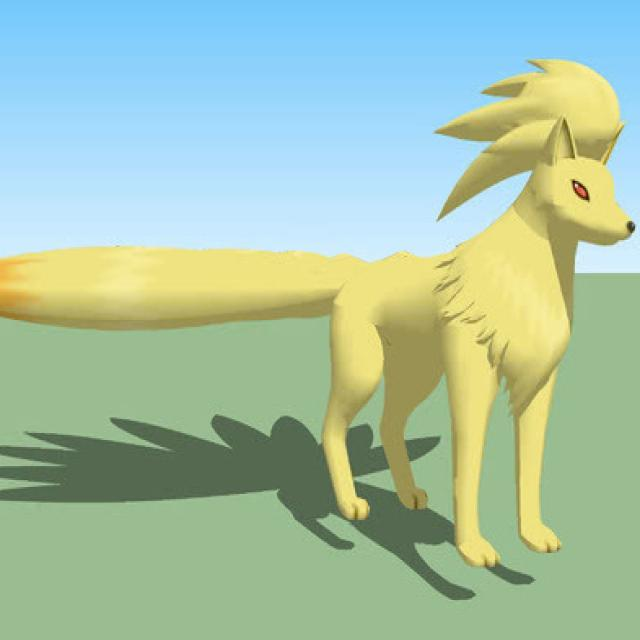Ninetales: (316, 61, 629, 571)
